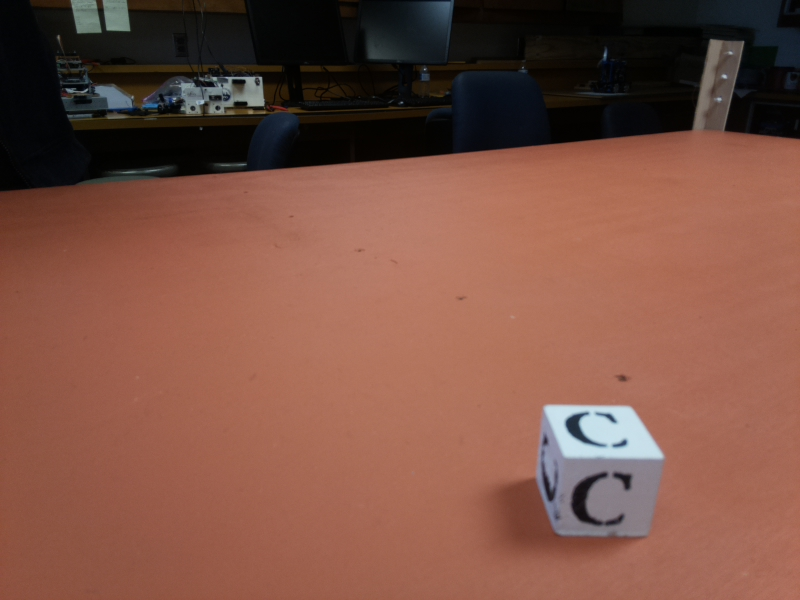blockC: (530, 399, 660, 544)
corner: (693, 40, 749, 130)
